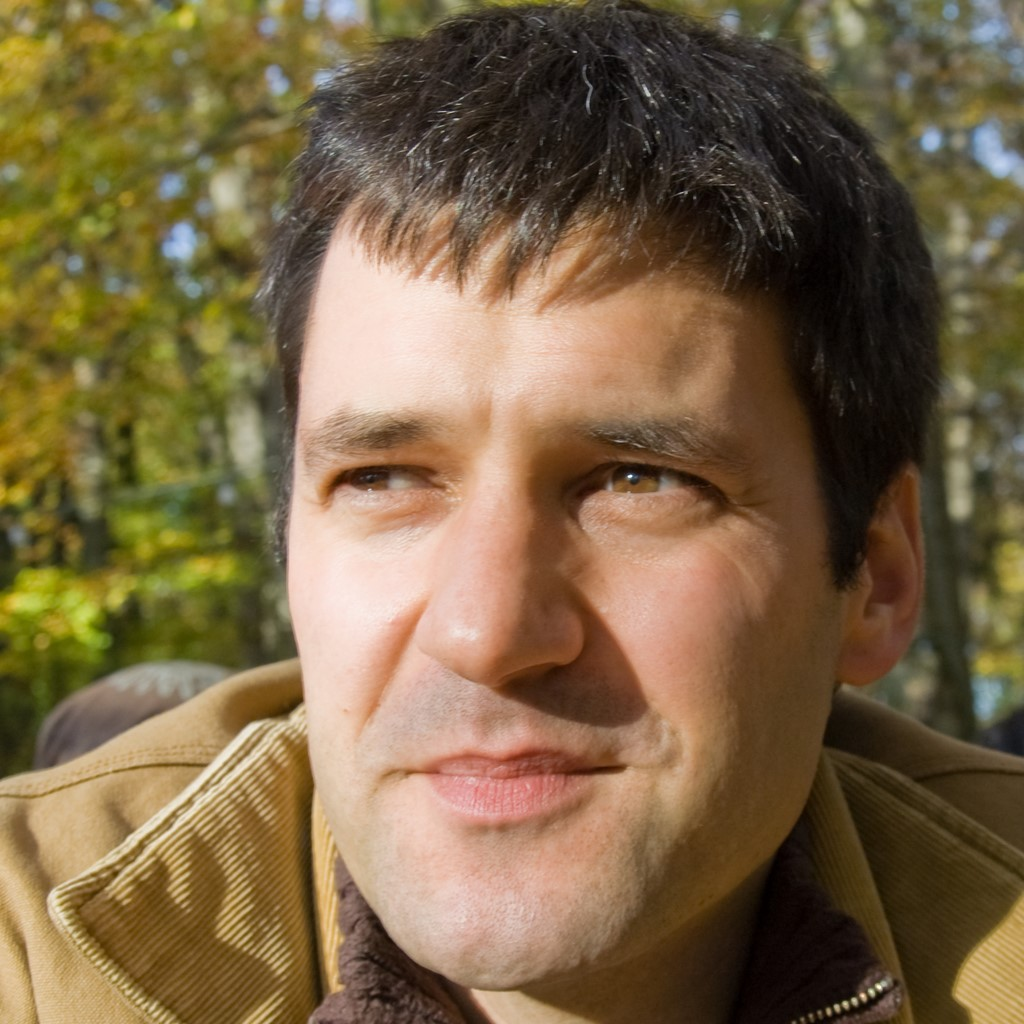sin_mascara: (293, 153, 906, 970)
